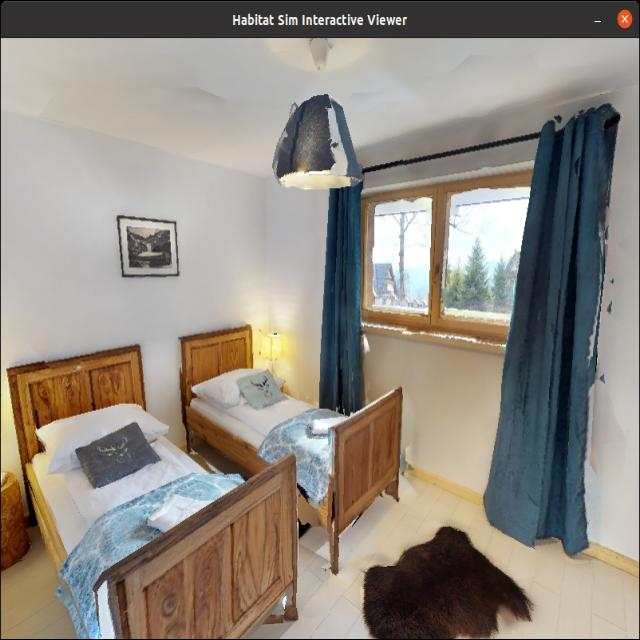bed: (18, 355, 309, 640), (184, 309, 418, 561)
